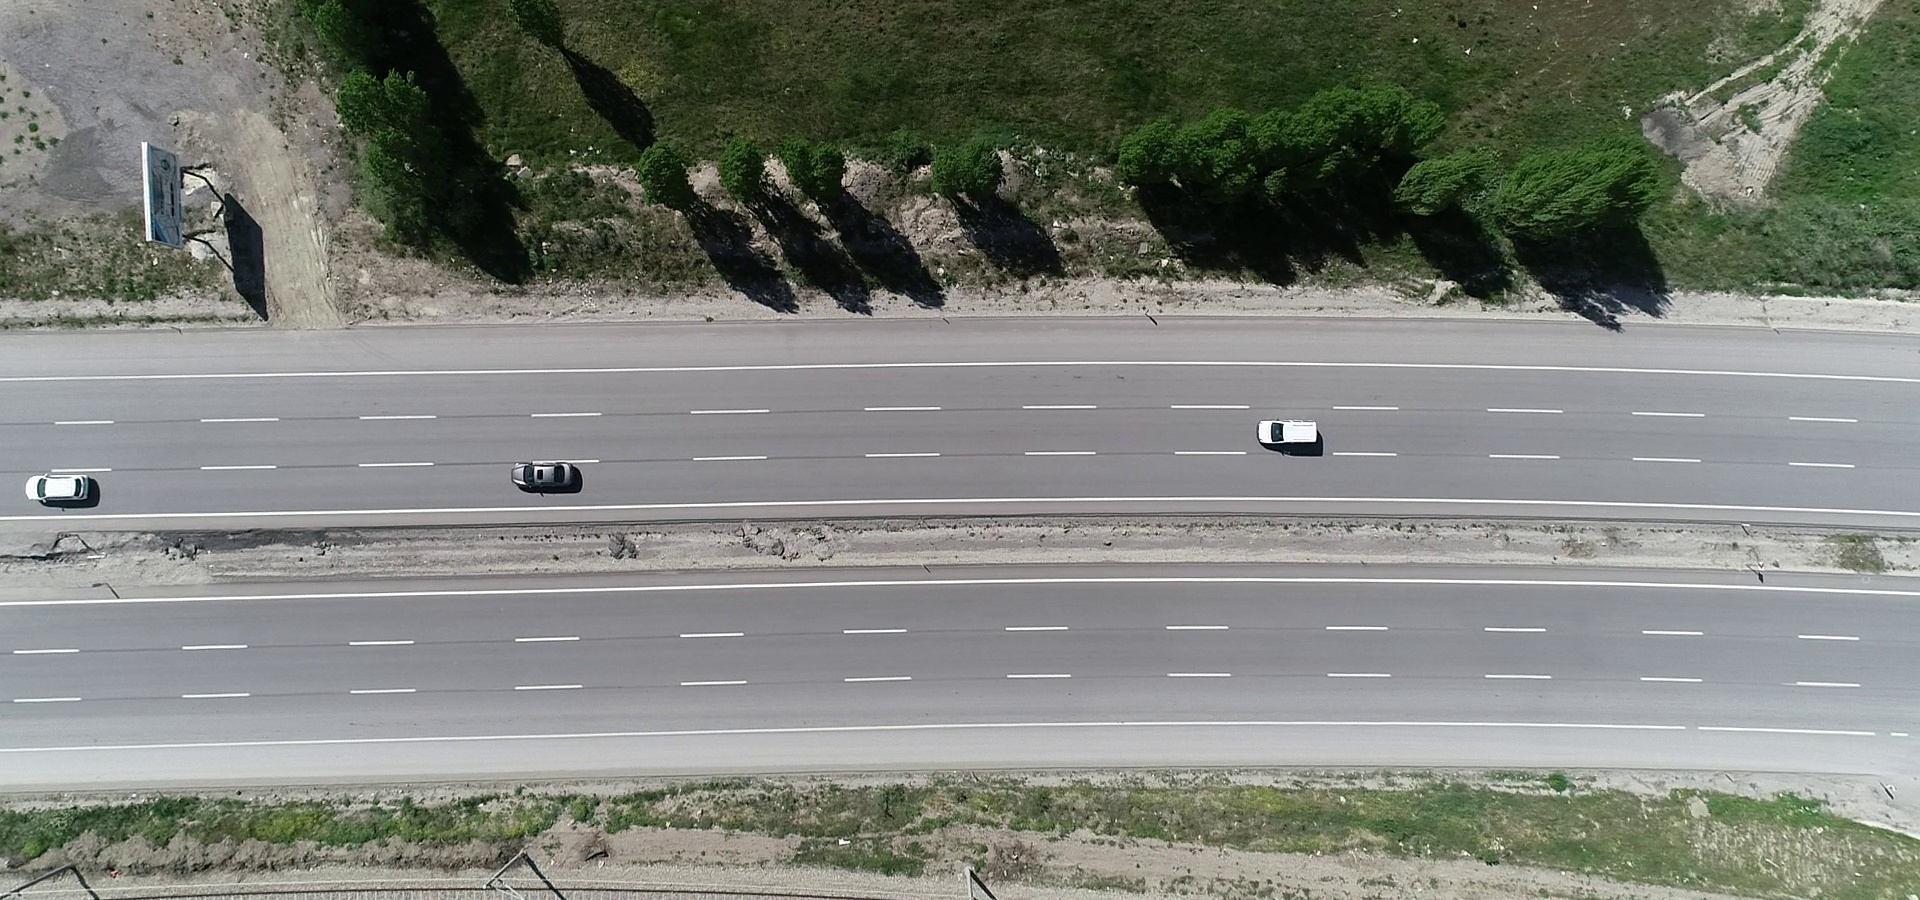araba: (23, 467, 105, 504), (1255, 415, 1329, 449), (500, 460, 582, 490)
